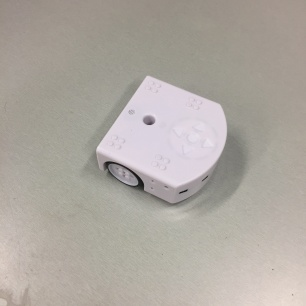thymio: (88, 72, 228, 206)
